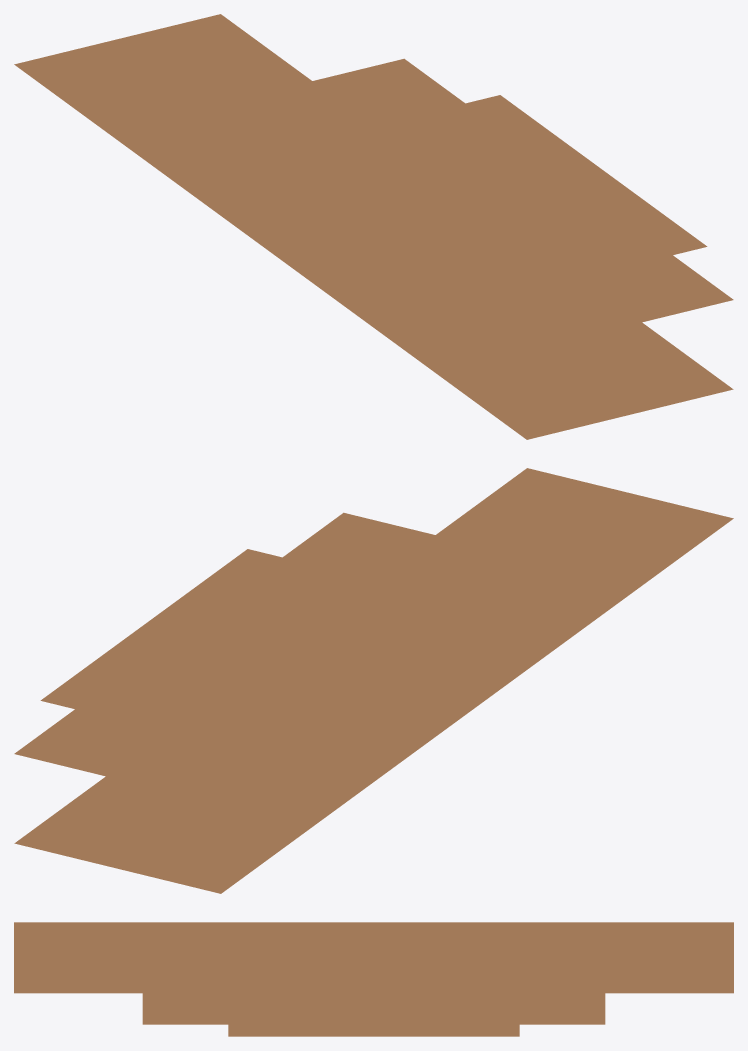
The model's file is Suelo_Tienda1.fbx.
The picture shows the model from 3 angles, top to bottom: view 1: azimuth 30°, elevation 25°; view 2: azimuth 150°, elevation 25°; view 3: azimuth 270°, elevation 25°; orthographic projection. The views are drawn at different scales.
Visible parts, largest first — view 1: Floor; view 2: Floor; view 3: Floor.
Boxes of the visible parts, left/top/right/bottom form: Floor: left=14, top=14, right=733, bottom=439; Floor: left=14, top=468, right=733, bottom=893; Floor: left=14, top=922, right=733, bottom=1036.
Size of the model in its own units: 798 by 0.000347 by 2127.
